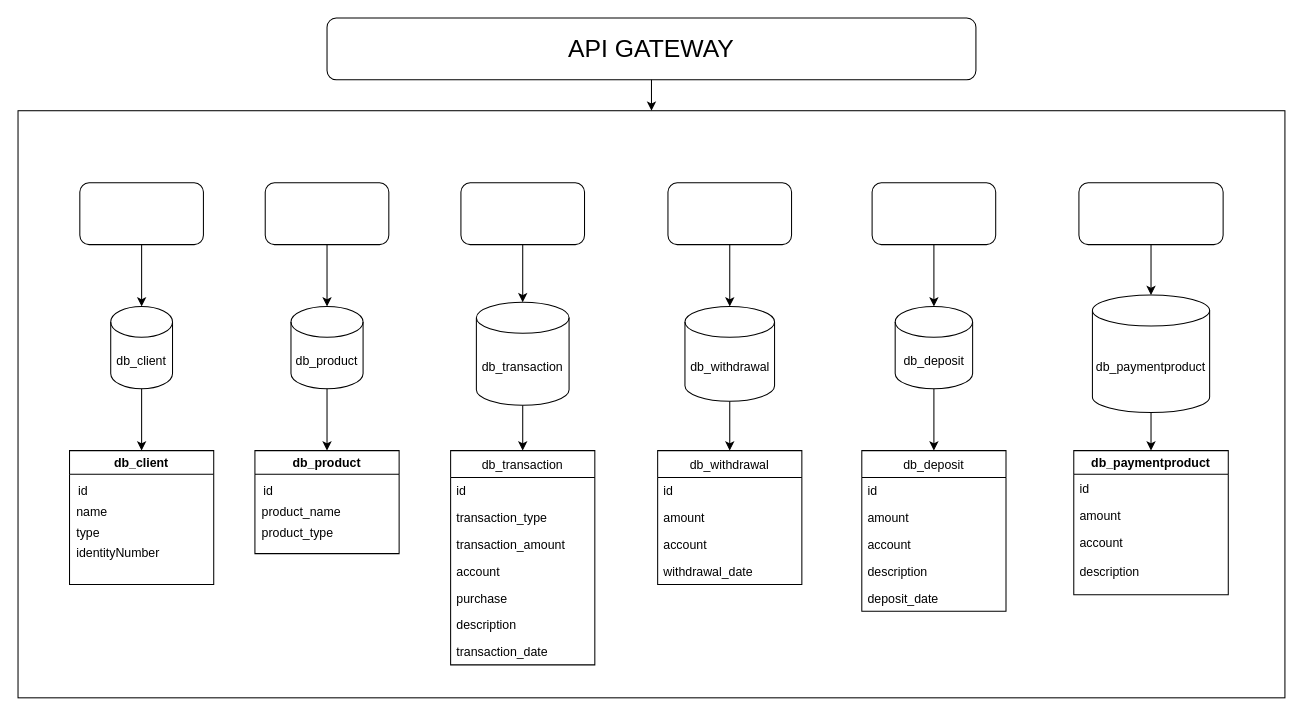
Image size: 1303x716. Some labels were removed from this diagram. The centre of each missing label's shape, as x and y in pixels:
Micro Client: (x=141, y=213)
Micro Deposit: (x=933, y=213)
Micro PaymentProduct: (x=1150, y=213)
Micro Product: (x=326, y=213)
Micro Transaction: (x=522, y=213)
Micro Withdrawal: (x=729, y=213)
